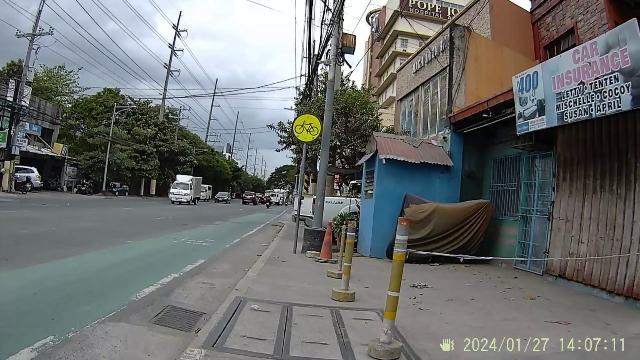street_sign: (292, 114, 320, 250)
utility_post: (10, 27, 56, 198), (304, 106, 338, 248), (160, 8, 192, 112)
